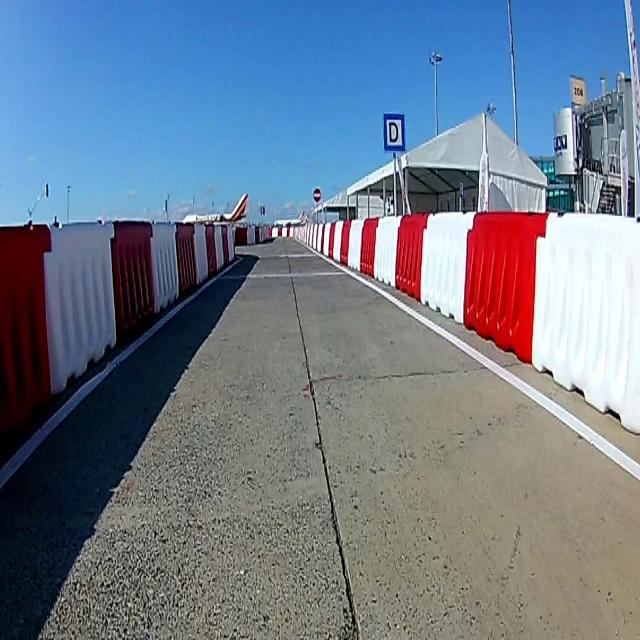durak: (383, 114, 405, 154)
girisyok: (312, 185, 322, 202)
